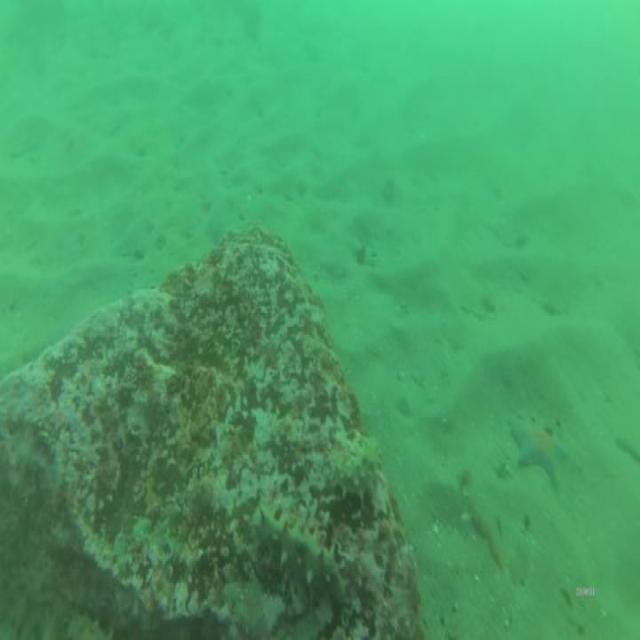holothurian: (252, 501, 348, 611), (320, 434, 384, 506)
starfish: (511, 420, 571, 490)
